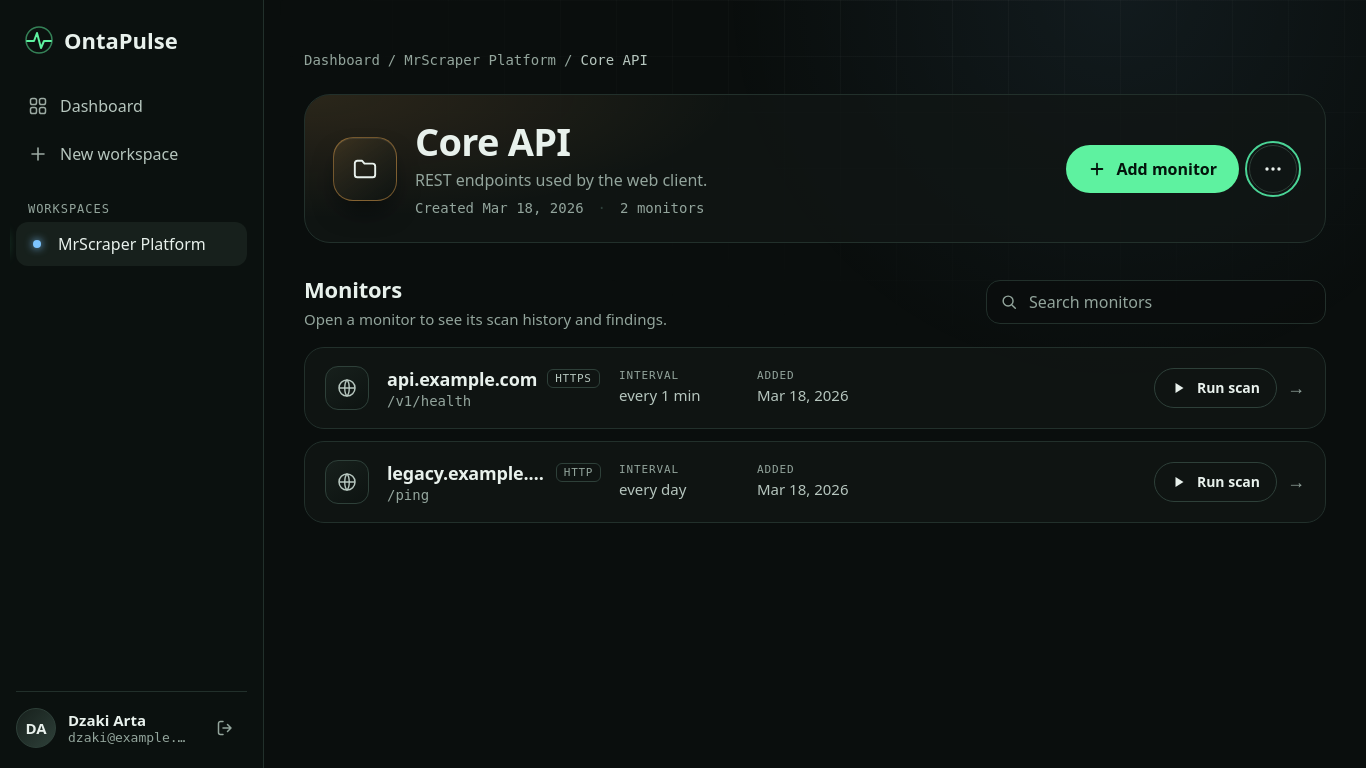
Scenario: ProjectPage › rename and delete › renames the project and its description
Press Enter
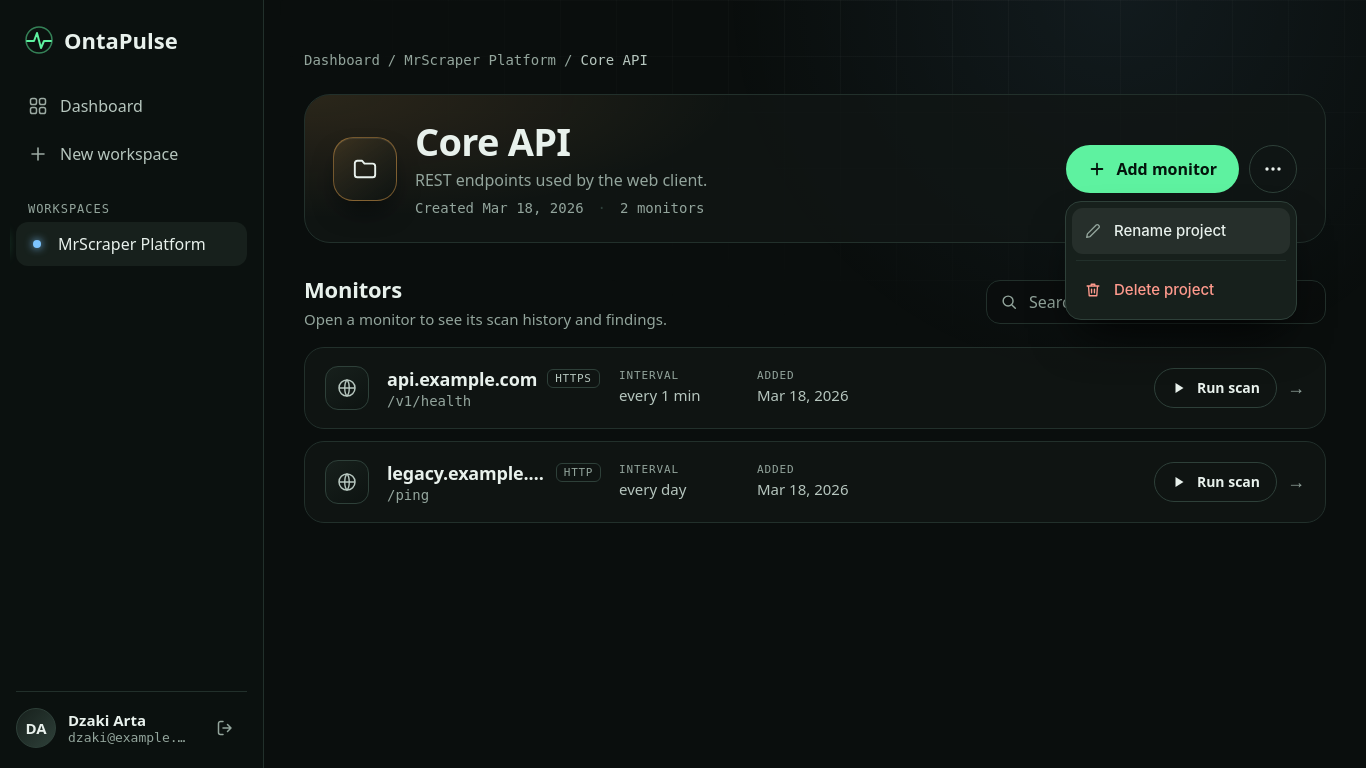
Click the menu item "Rename project" at (1181, 231), box [1072,208,1290,254]
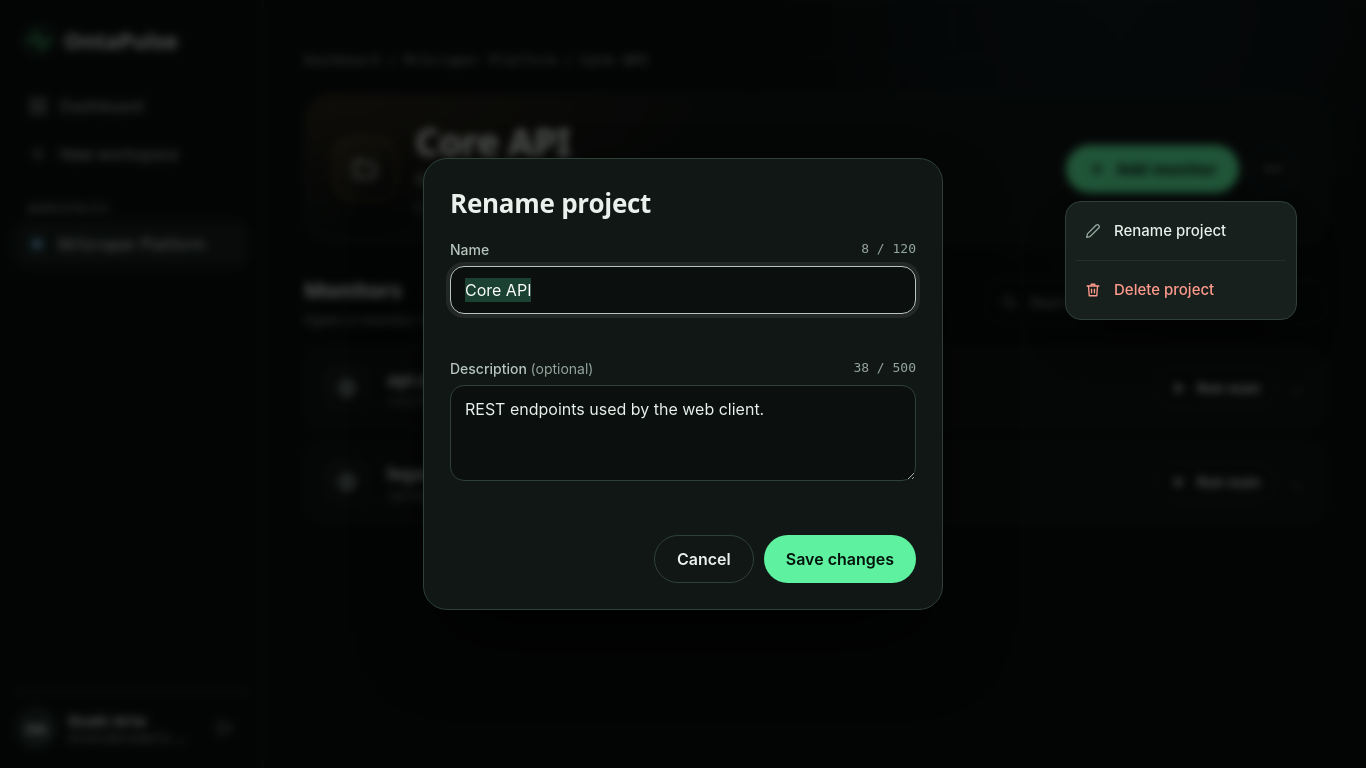
Check: the field labelled "Name" holds "Core API"
Replace the text in the field labelled "Name" with "Core API v2" at (683, 290), box [450,266,916,314]
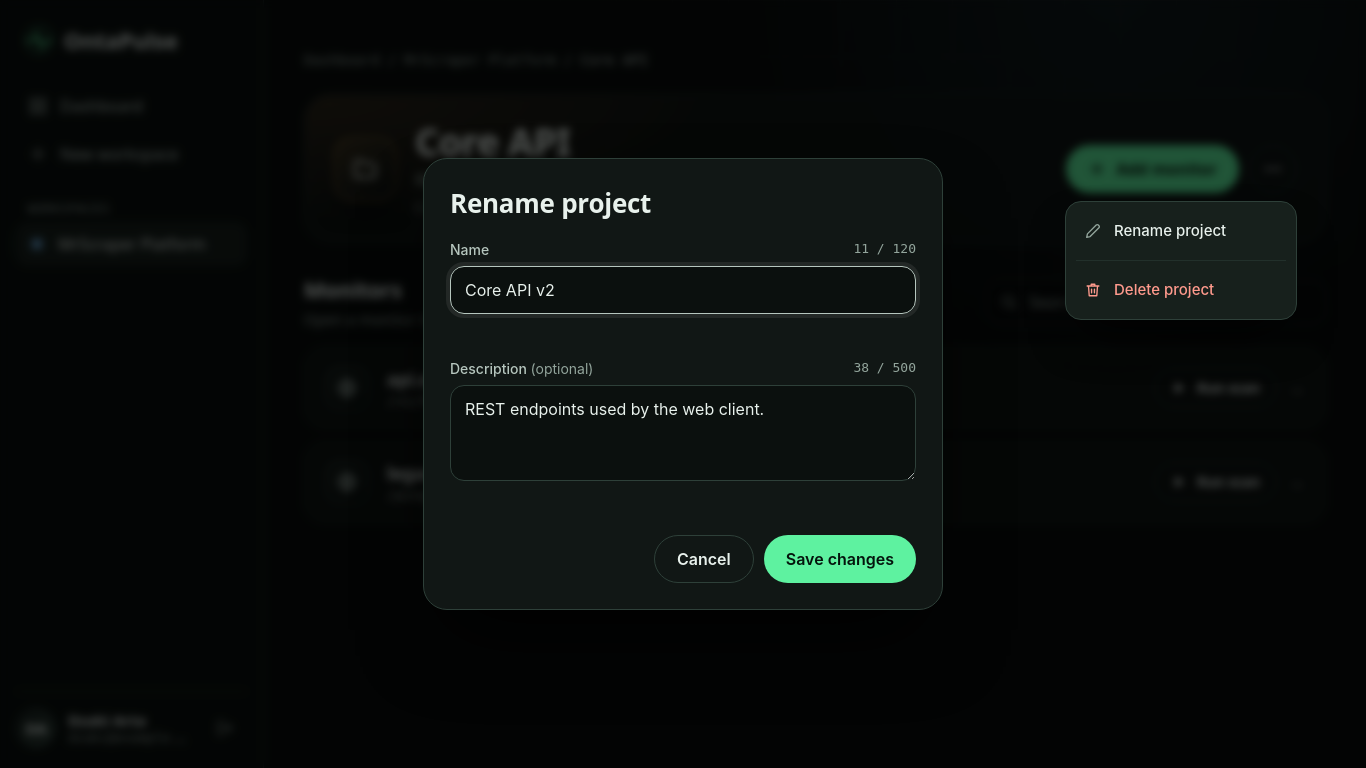
Replace the text in the text box labelled "Description (optional)" with "Updated text" at (683, 433), box [450,385,916,481]
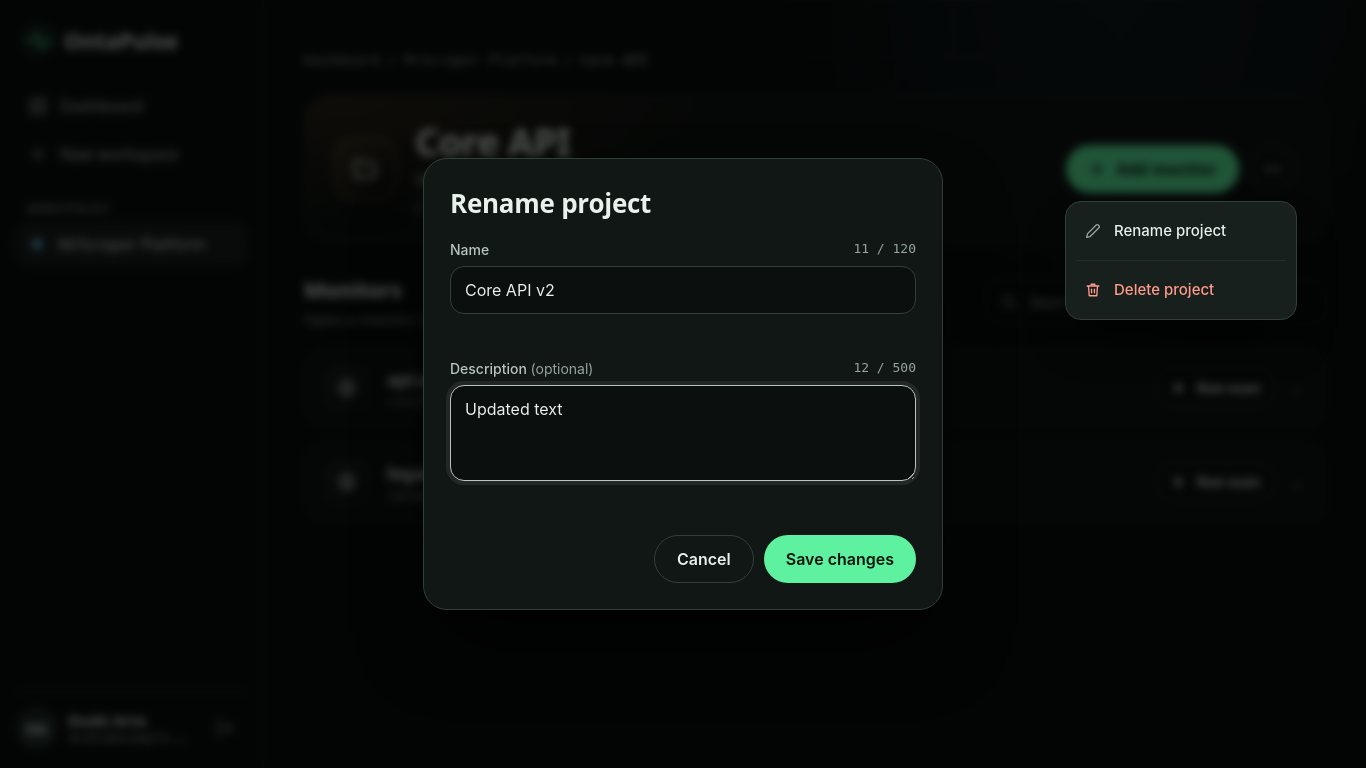
Click the button "Save changes" at (840, 559), box [764,535,916,583]
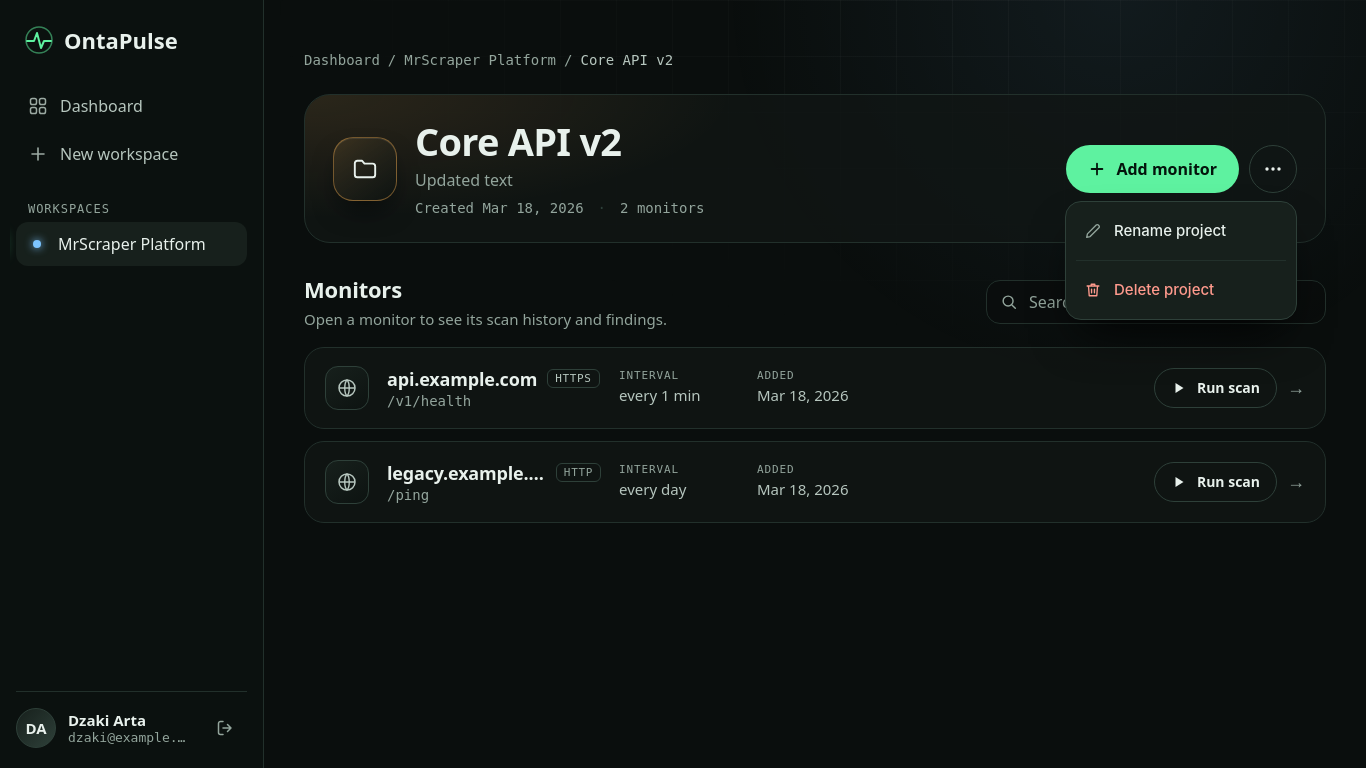
Check: the heading "Core API v2" is shown, box [415,115,621,167]
Check: the text "Updated text" is shown, box [415,169,513,191]
